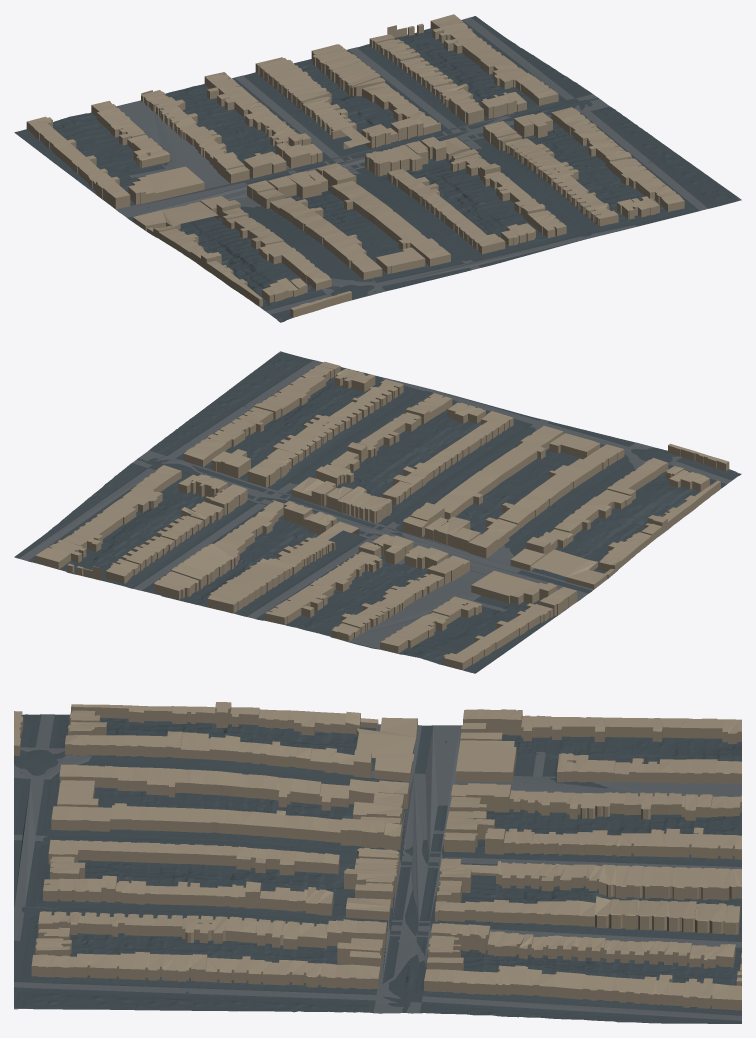
The model's file is epsg26910-1417-10878.lod0.glb.
3 renders of one model, top to bottom at view 1: azimuth 30°, elevation 25°; view 2: azimuth 150°, elevation 25°; view 3: azimuth 270°, elevation 25°, orthographic. The views are drawn at different scales.
Parts seen in each view (by area): view 1: epsg26910-1417-10878-lod0; view 2: epsg26910-1417-10878-lod0; view 3: epsg26910-1417-10878-lod0.
Part boxes in pixels (left/top/right/bottom): epsg26910-1417-10878-lod0: left=14, top=14, right=741, bottom=322; epsg26910-1417-10878-lod0: left=14, top=351, right=741, bottom=673; epsg26910-1417-10878-lod0: left=14, top=702, right=741, bottom=1023.
Bounding box in the file's own units: 384 × 21.78 × 384.
